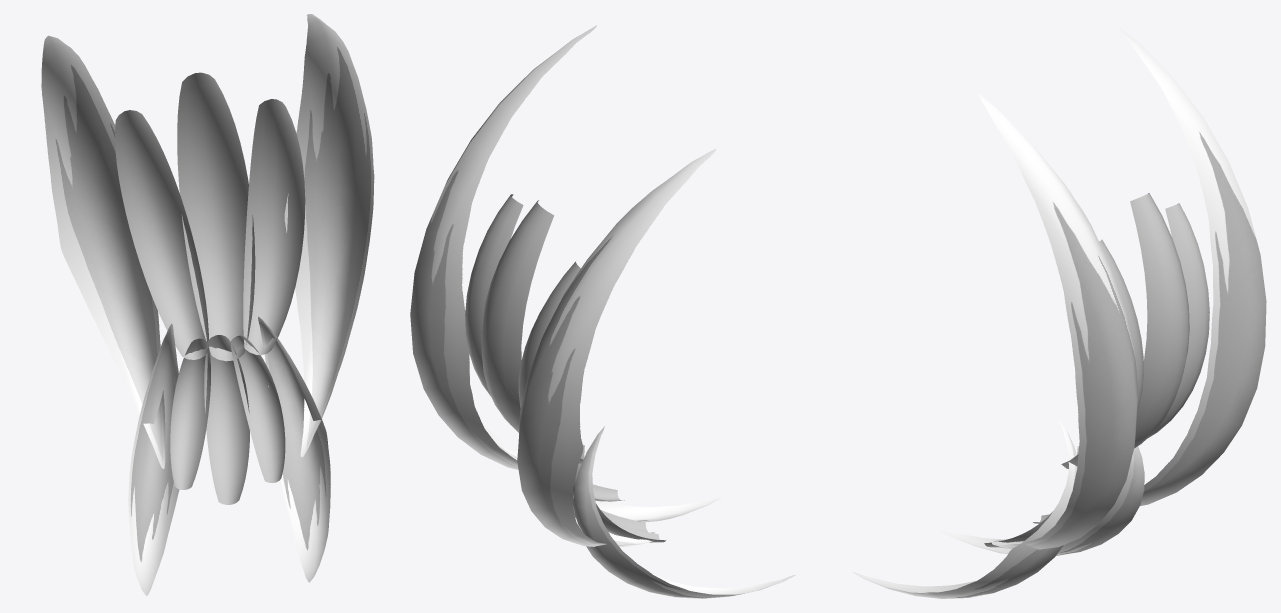
Rendered from fx_m10111_skill01.fbx.
3 renders of one model, left to right at view 1: azimuth 30°, elevation 25°; view 2: azimuth 150°, elevation 25°; view 3: azimuth 270°, elevation 25°, orthographic.
Parts seen in each view (by area): view 1: trail_alpha_out, trail_alpha, trail_bottom_out_alpha, trail_bottom_alpha; view 2: trail_alpha_out, trail_alpha, trail_bottom_out_alpha, trail_bottom_alpha; view 3: trail_alpha_out, trail_alpha, trail_bottom_out_alpha.
Boxes of the visible parts, <box> form: trail_alpha_out: <box>41,14,374,468</box>; trail_alpha: <box>115,72,305,361</box>; trail_bottom_out_alpha: <box>128,316,330,595</box>; trail_bottom_alpha: <box>170,335,285,504</box>; trail_alpha_out: <box>410,25,716,547</box>; trail_alpha: <box>465,194,583,463</box>; trail_bottom_out_alpha: <box>573,426,795,598</box>; trail_bottom_alpha: <box>572,445,665,542</box>; trail_alpha_out: <box>979,27,1266,549</box>; trail_alpha: <box>1061,193,1209,468</box>; trail_bottom_out_alpha: <box>852,420,1144,598</box>.
Bounding box in the file's own units: 240 × 360 × 259.
